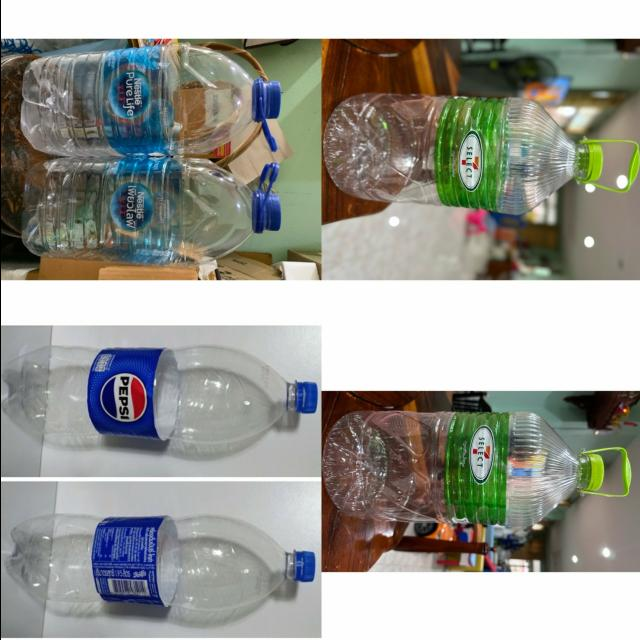plastik: (322, 94, 631, 215), (322, 411, 630, 527), (1, 346, 317, 444), (5, 514, 314, 611), (21, 43, 280, 154), (22, 158, 279, 265), (594, 142, 639, 192)
